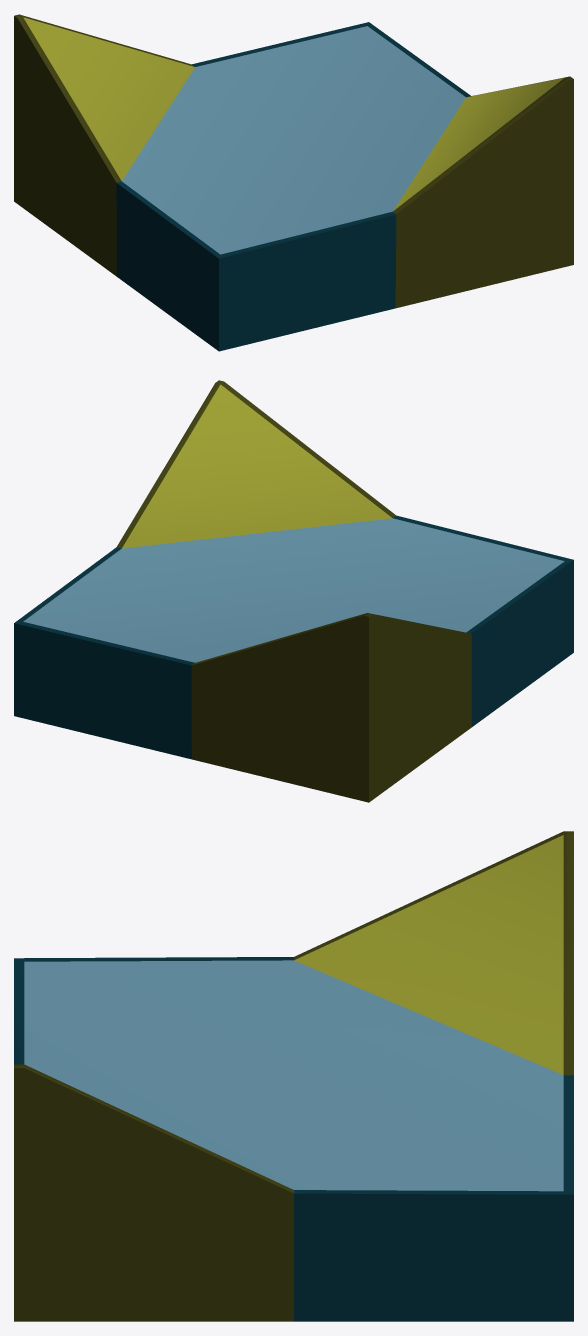
File: Agua_12.fbx
3 renders of one model, top to bottom at view 1: azimuth 30°, elevation 25°; view 2: azimuth 150°, elevation 25°; view 3: azimuth 270°, elevation 25°, orthographic. The views are drawn at different scales.
Parts seen in each view (by area): view 1: pCube7; view 2: pCube7; view 3: pCube7.
Part boxes in pixels (<box>): pCube7: <box>14,14,573,351</box>; pCube7: <box>14,380,573,802</box>; pCube7: <box>14,831,573,1321</box>.
Bounding box in the file's own units: 200 × 100 × 200.
